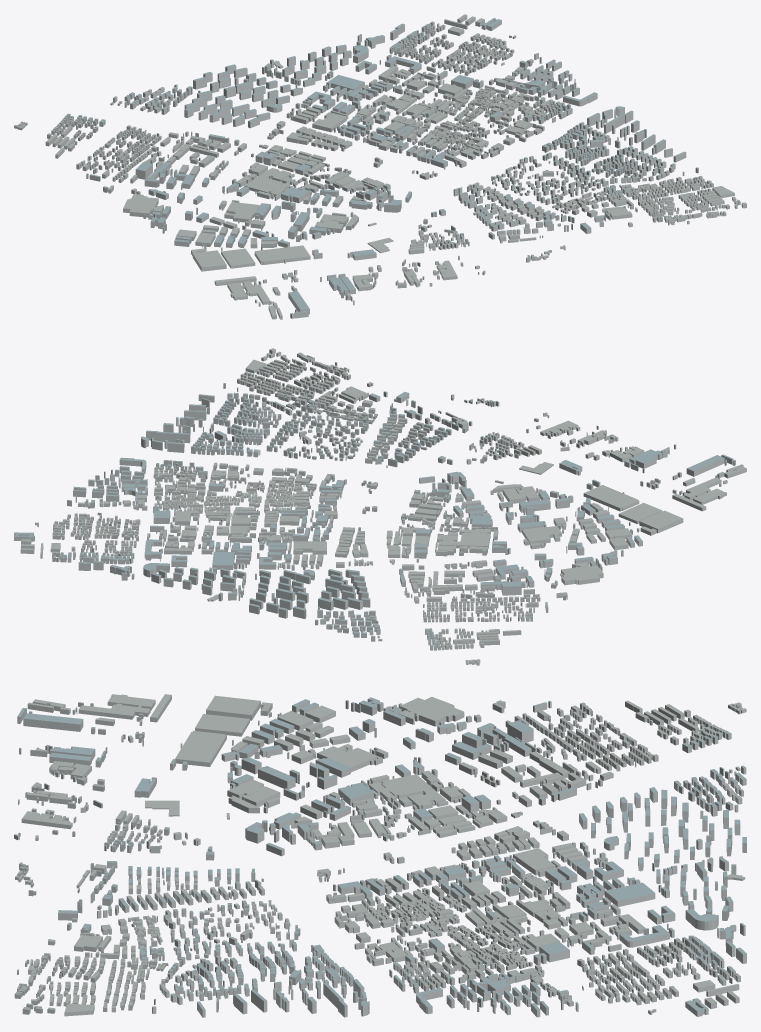
File: far.glb
3 renders of one model, top to bottom at view 1: azimuth 30°, elevation 25°; view 2: azimuth 150°, elevation 25°; view 3: azimuth 270°, elevation 25°, orthographic. The views are drawn at different scales.
Bounding box in the file's own units: 2177 × 37.4 × 2108.
